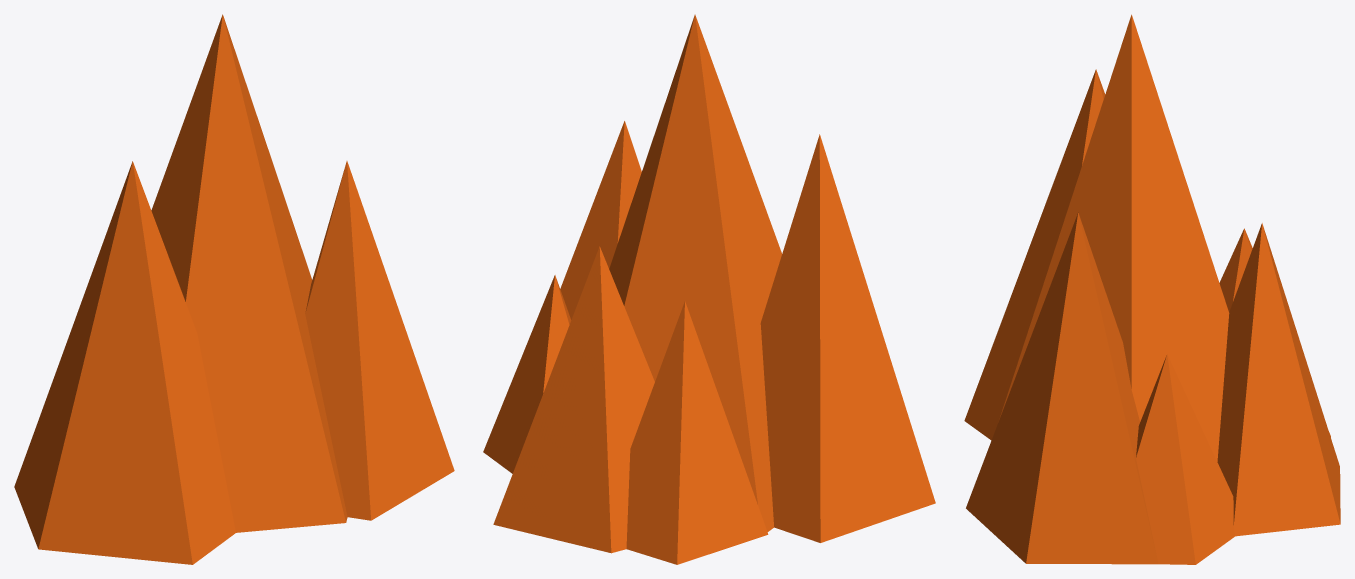
File: flame_outer.fbx
3 renders of one model, left to right at view 1: azimuth 30°, elevation 25°; view 2: azimuth 150°, elevation 25°; view 3: azimuth 270°, elevation 25°, orthographic.
Parts seen in each view (by area): view 1: FlameOuter; view 2: FlameOuter; view 3: FlameOuter.
Part boxes in pixels (<box>): FlameOuter: <box>14,14,454,564</box>; FlameOuter: <box>483,14,935,564</box>; FlameOuter: <box>964,14,1340,564</box>.
Size of the model in its own units: 0.7692 by 0.86 by 0.6343.
